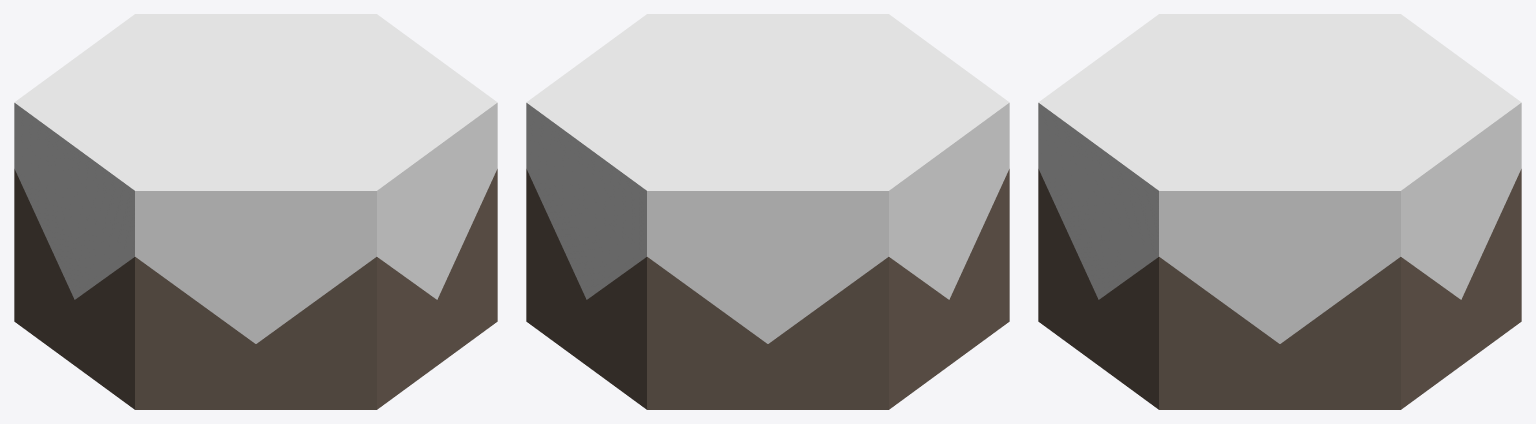
Rendered from ground_snow.fbx.
The picture shows the model from 3 angles, left to right: view 1: azimuth 30°, elevation 25°; view 2: azimuth 150°, elevation 25°; view 3: azimuth 270°, elevation 25°; orthographic projection.
Visible parts, largest first — view 1: Cylinder; view 2: Cylinder; view 3: Cylinder.
Boxes of the visible parts, <box> form: Cylinder: <box>14,14,497,409</box>; Cylinder: <box>526,14,1009,409</box>; Cylinder: <box>1038,14,1521,409</box>.
Bounding box in the file's own units: 1.73 × 1 × 2.
